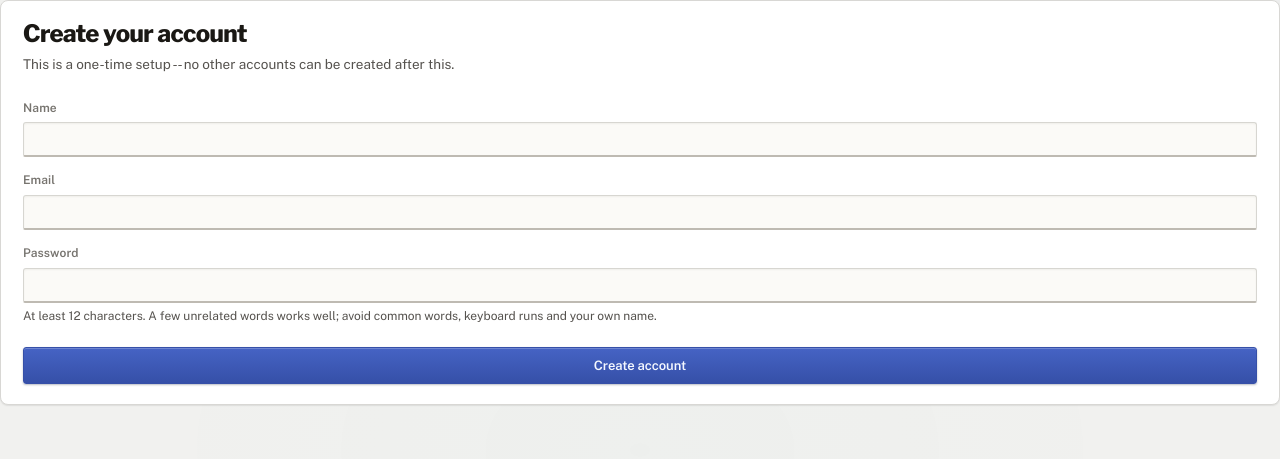
Scenario: RegisterForm › validates a minimum password length
Type "Ada Lovelace" into the field labelled "Name" at coordinates (640, 140), box [23,122,1257,157]
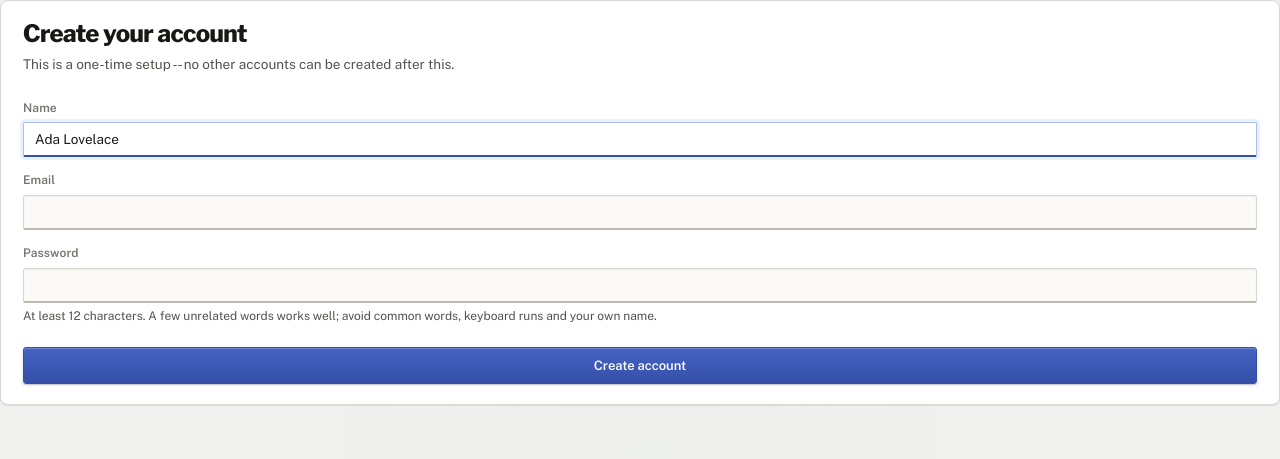
Type "ada@example.com" into the field labelled "Email" at coordinates (640, 212), box [23,195,1257,230]
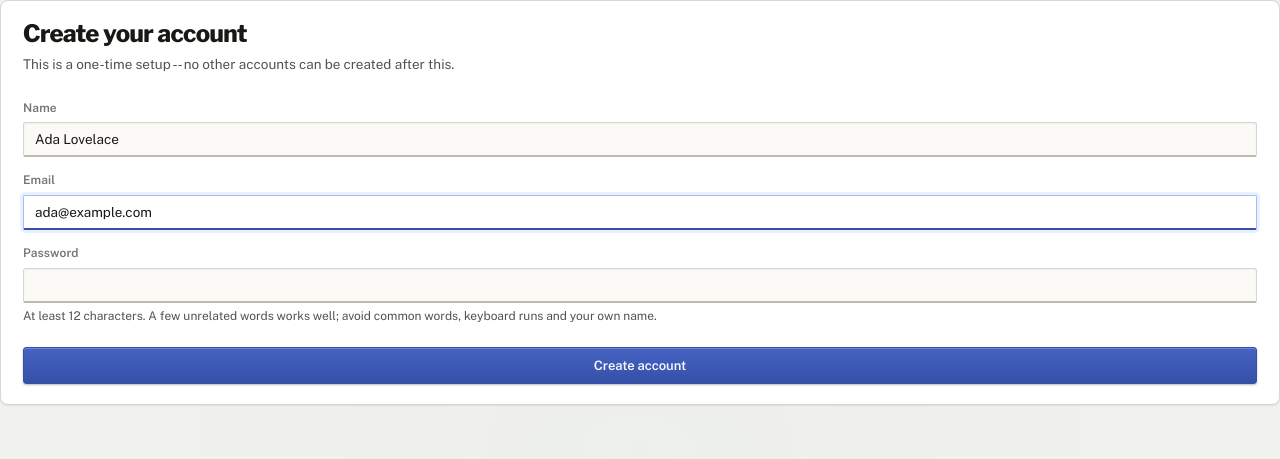
Type "short" into the password field labelled "Password" at coordinates (640, 285), box [23,268,1257,303]
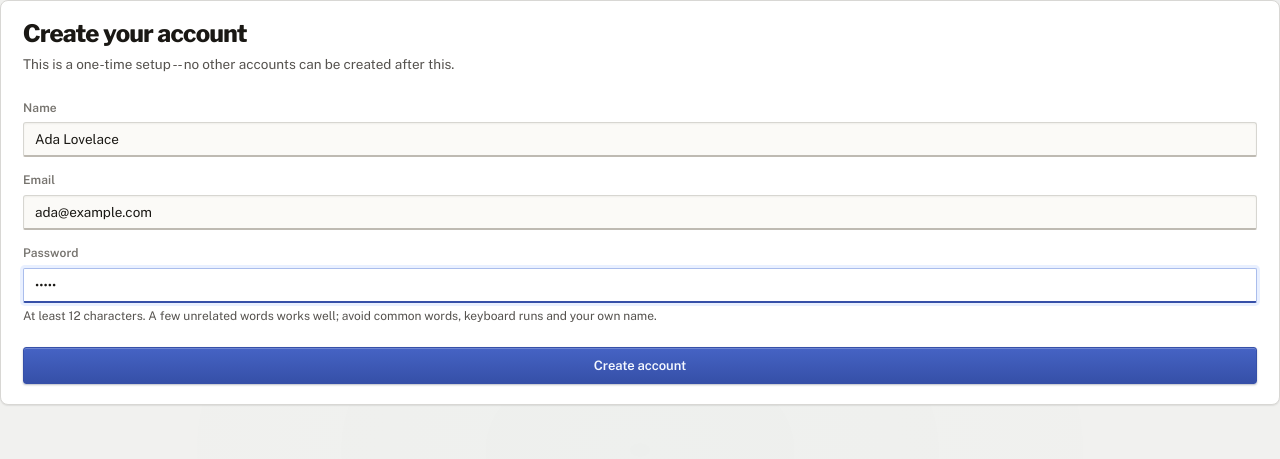
Click the button "Create account" at coordinates (640, 366), box [23,347,1257,384]
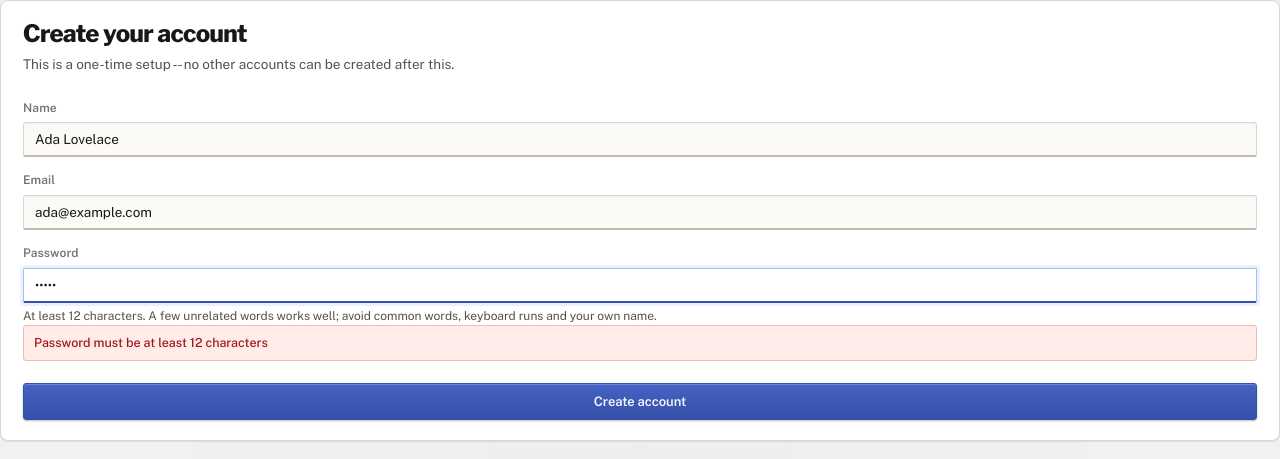
Result: the text "Password must be at least 12 characters" is shown at [23,325,1257,361]
